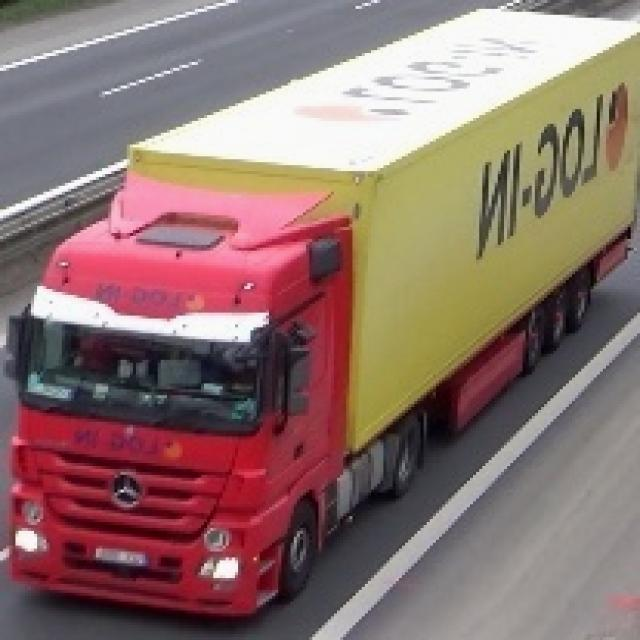TRUCK: (12, 95, 465, 617)
